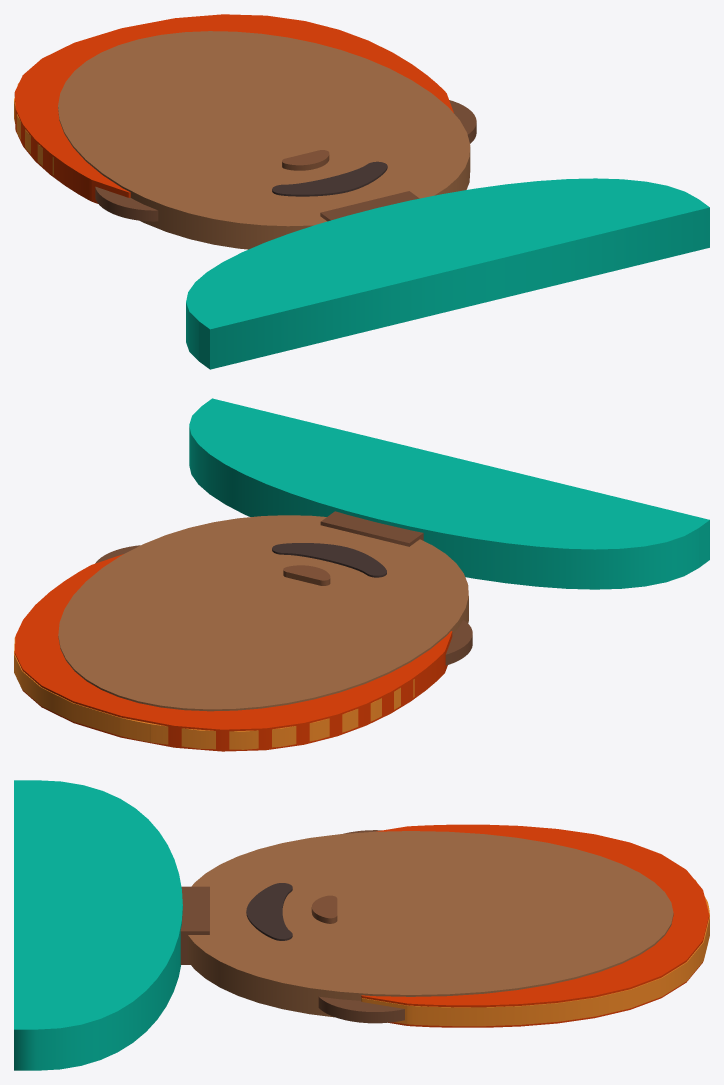
File: emoji_u1f468_1f3fe_200d_1f9b0.glb
The picture shows the model from 3 angles, top to bottom: view 1: azimuth 30°, elevation 25°; view 2: azimuth 150°, elevation 25°; view 3: azimuth 270°, elevation 25°; orthographic projection. The views are drawn at different scales.
Parts seen in each view (by area): view 1: emoji_u1f468_1f3fe_200d_1f9b0; view 2: emoji_u1f468_1f3fe_200d_1f9b0; view 3: emoji_u1f468_1f3fe_200d_1f9b0.
Boxes of the visible parts, x1=… form: emoji_u1f468_1f3fe_200d_1f9b0: x1=14, y1=14, x2=709, y2=369; emoji_u1f468_1f3fe_200d_1f9b0: x1=14, y1=398, x2=709, y2=751; emoji_u1f468_1f3fe_200d_1f9b0: x1=14, y1=780, x2=709, y2=1070.
Size of the model in its own units: 0.0286 by 0.0022 by 0.0337.
